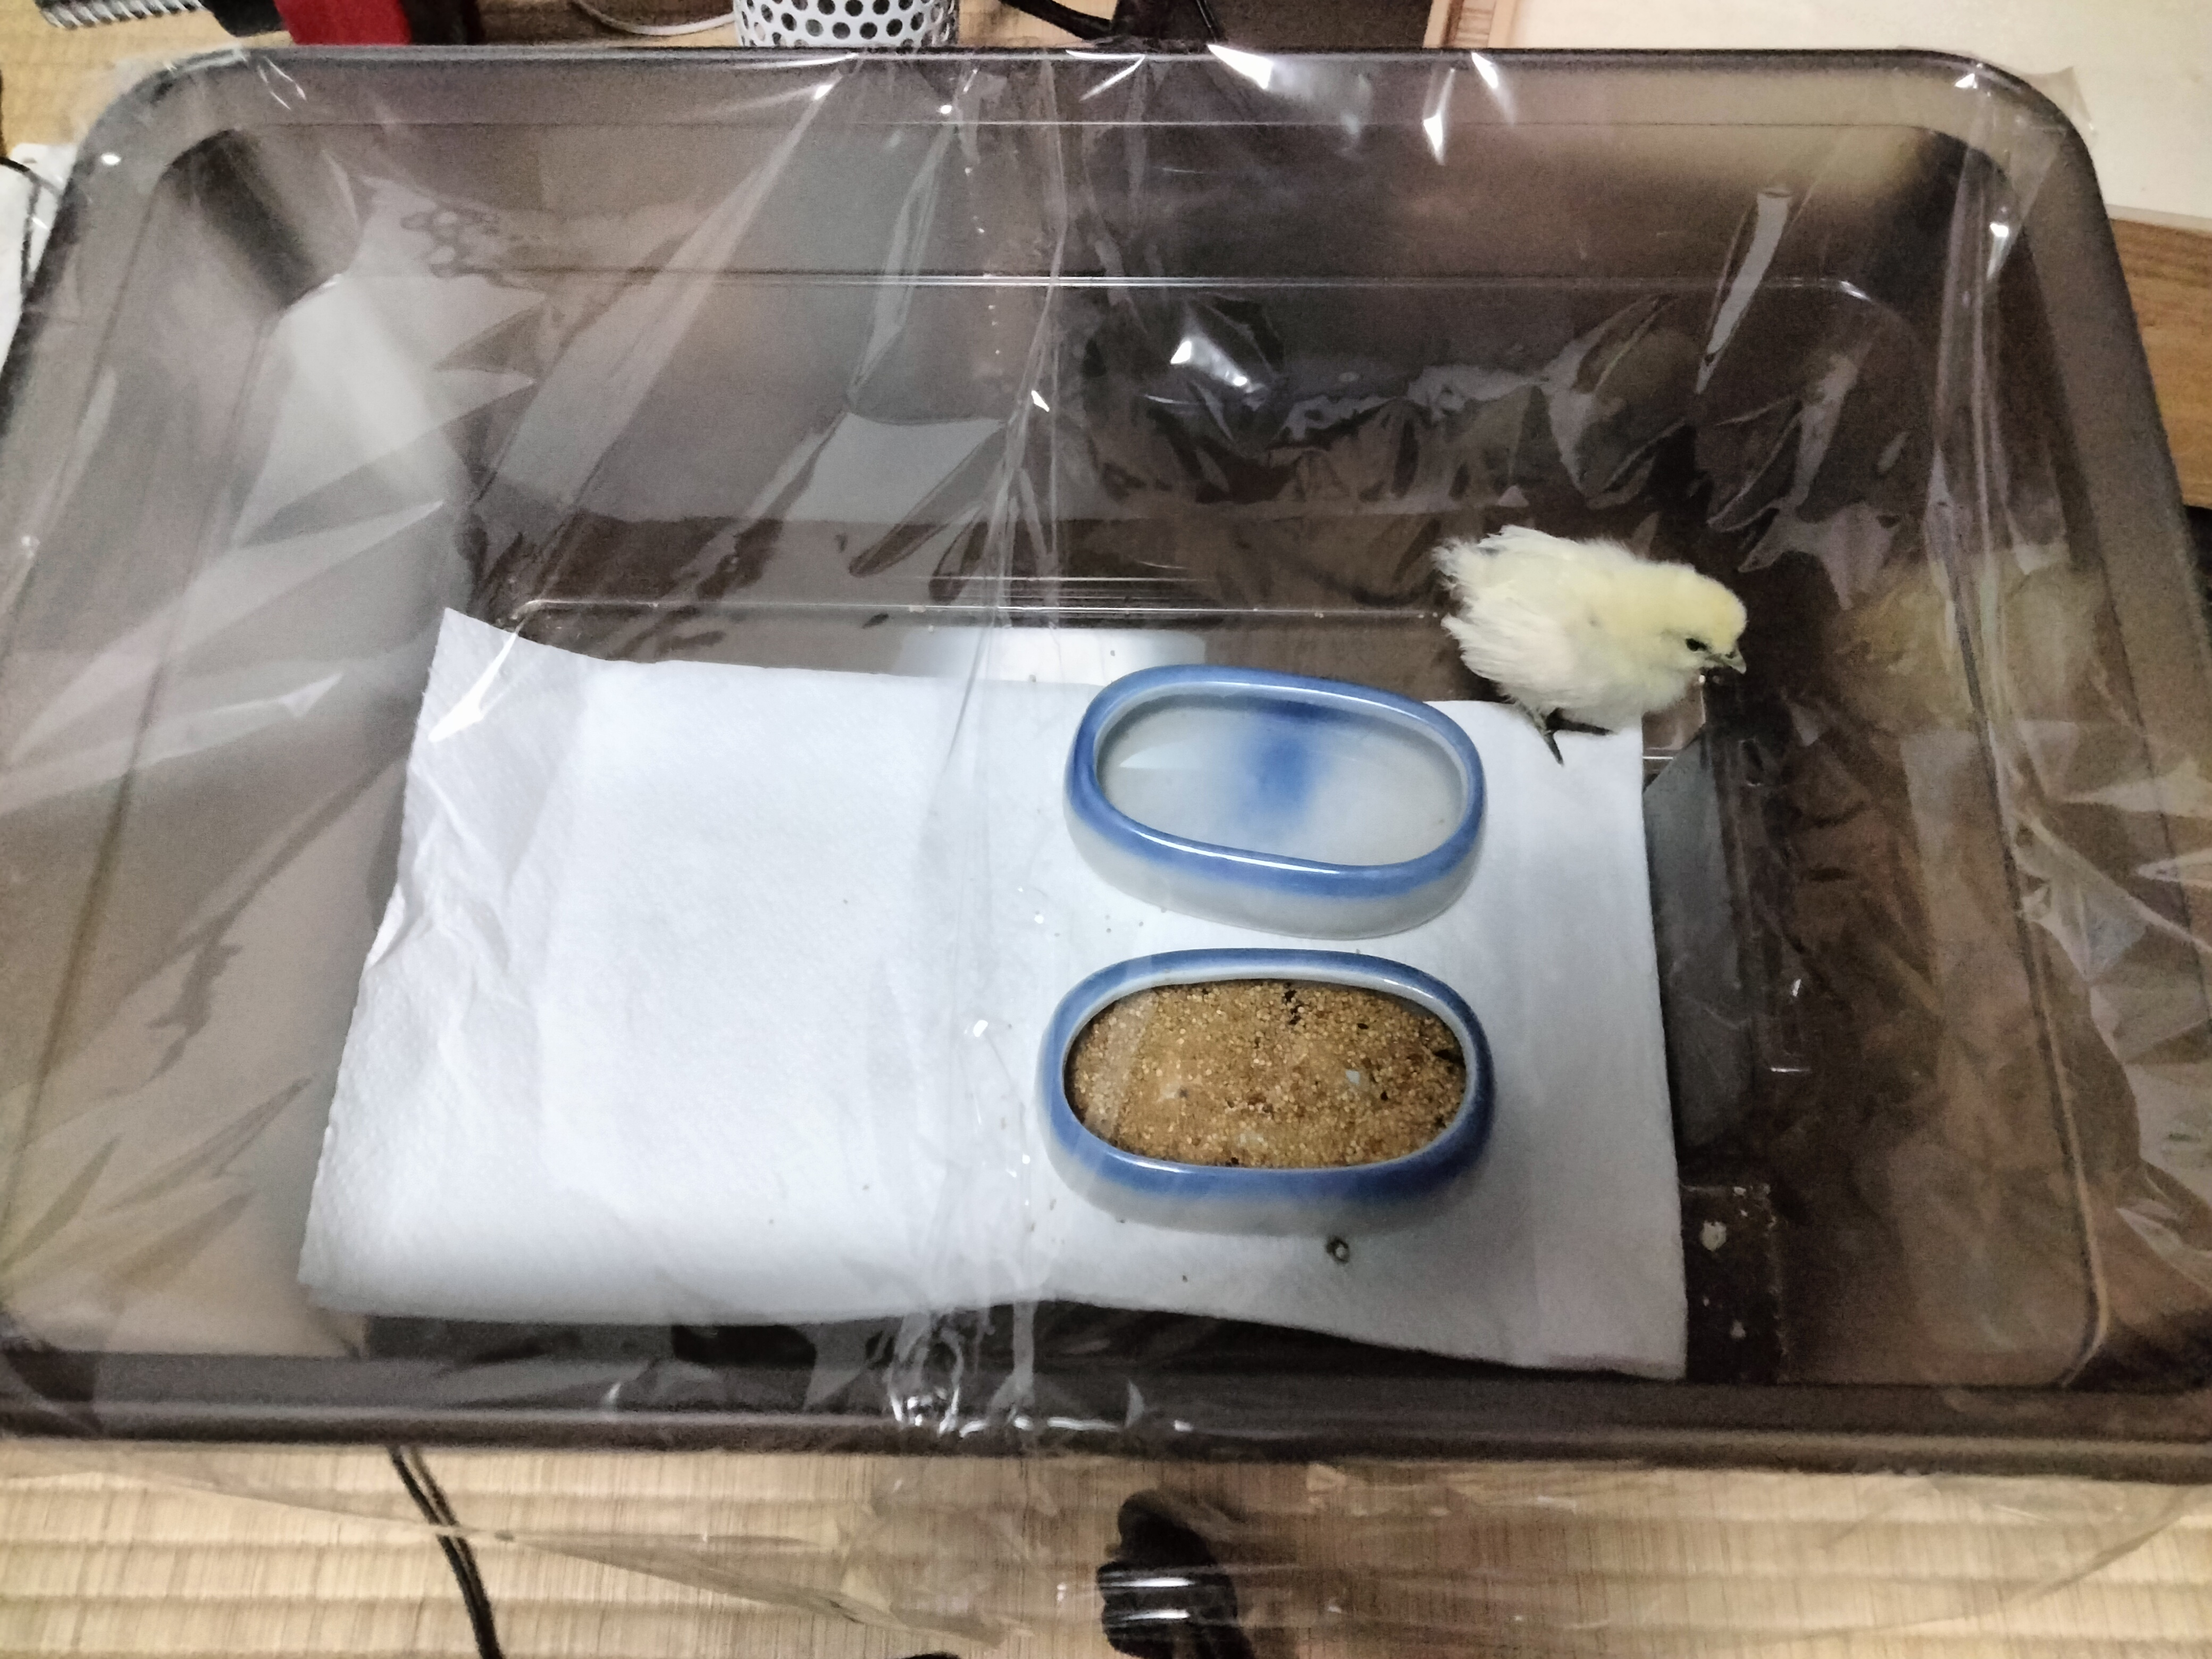shiro: (1416, 509, 1759, 774)
